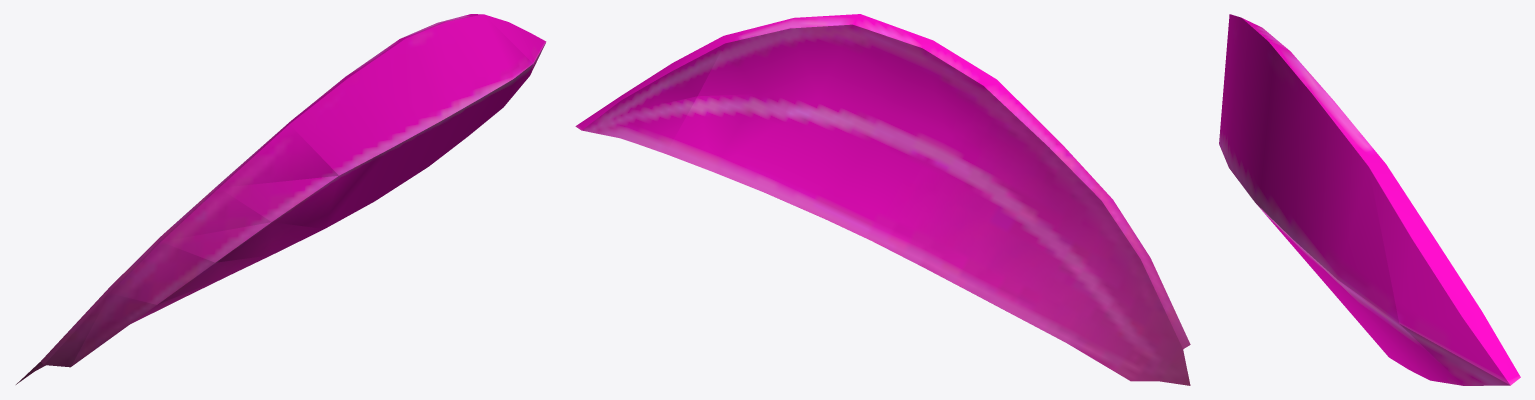
The model's file is akuPluma4.obj.
3 renders of one model, left to right at view 1: azimuth 30°, elevation 25°; view 2: azimuth 150°, elevation 25°; view 3: azimuth 270°, elevation 25°, orthographic. The views are drawn at different scales.
Parts seen in each view (by area): view 1: Object004; view 2: Object004; view 3: Object004.
Boxes of the visible parts, x1,y1,x2,y2 form: Object004: [16, 14, 546, 384]; Object004: [575, 14, 1190, 385]; Object004: [1219, 14, 1520, 385].
Bounding box in the file's own units: 4.88 × 2.21 × 1.39.
1 material, 1 textured.
